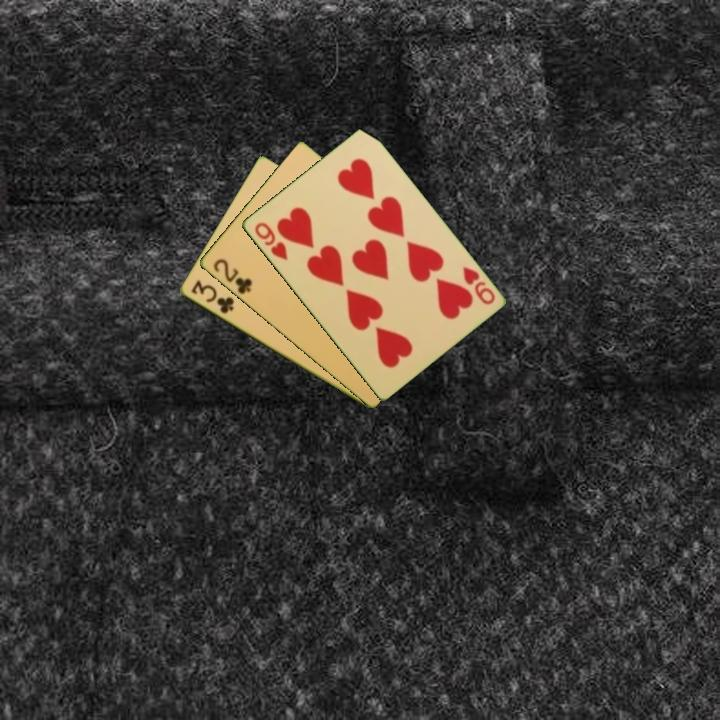2c: (209, 255, 255, 297)
3c: (187, 277, 236, 317)
9h: (250, 218, 290, 263), (458, 263, 498, 308)
